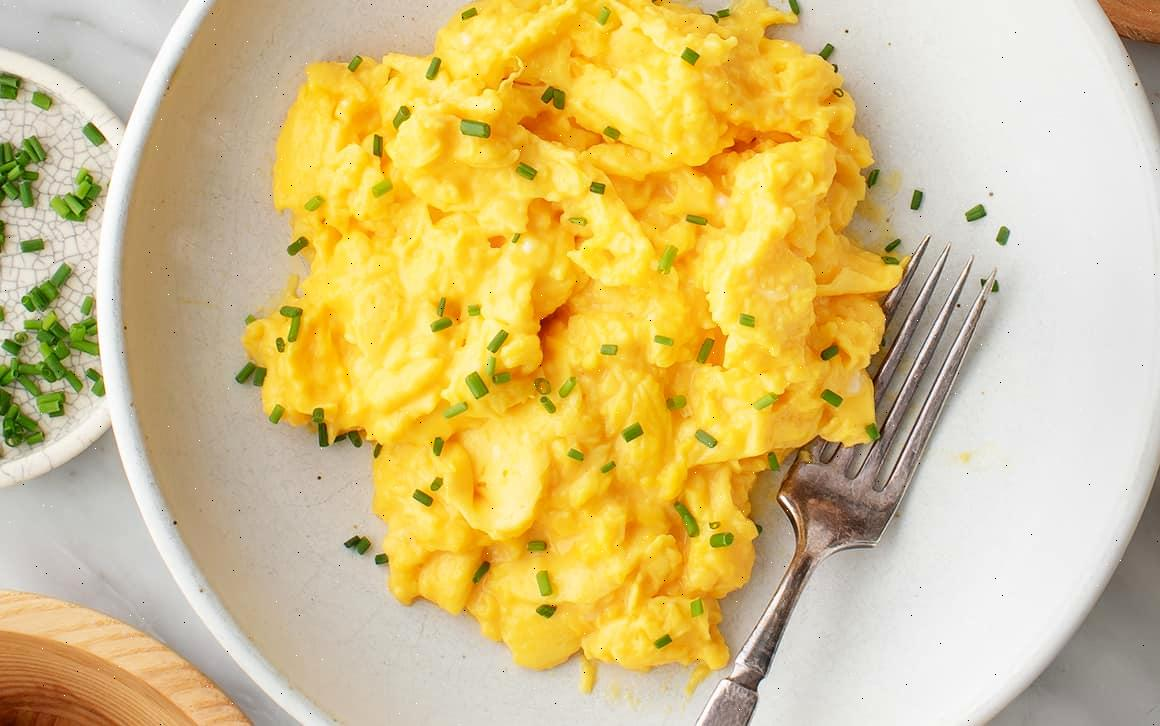eggs: (251, 21, 903, 652)
